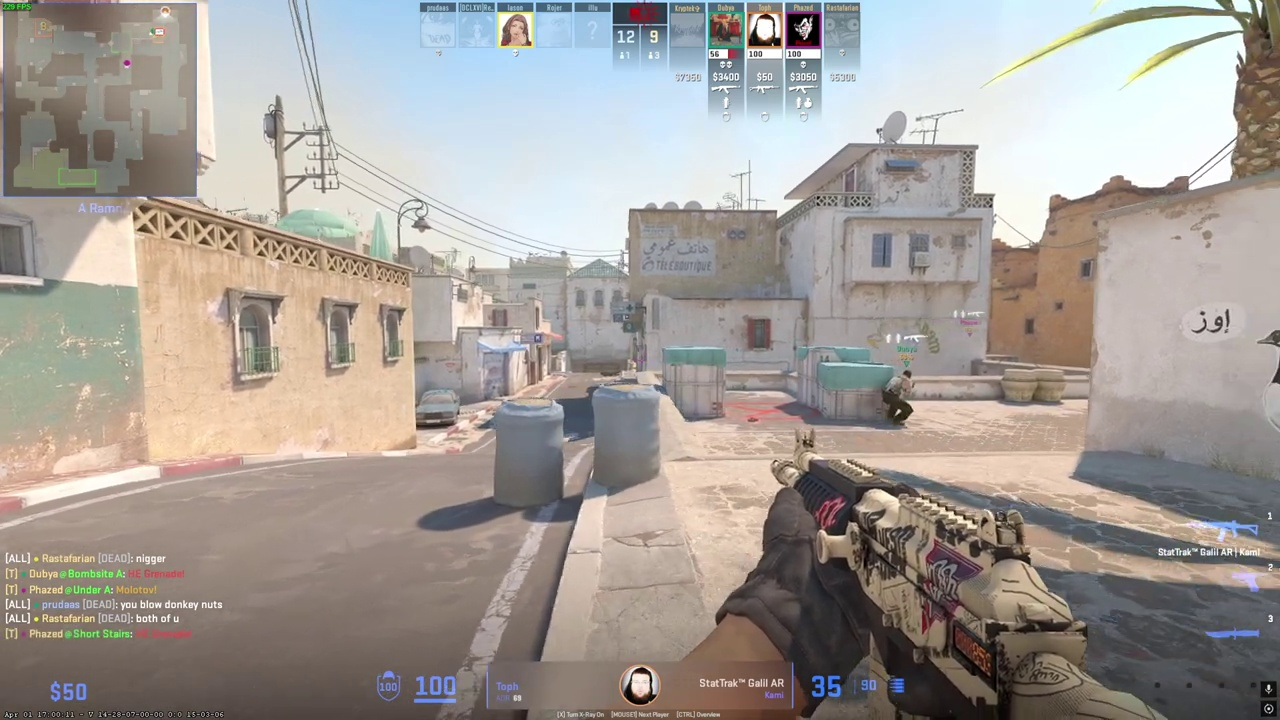Terrorist: (883, 370, 914, 425)
